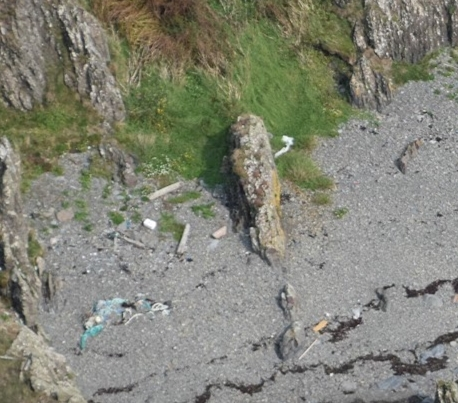net: (71, 292, 167, 351)
white_in_green: (127, 171, 233, 256), (262, 119, 313, 173)
